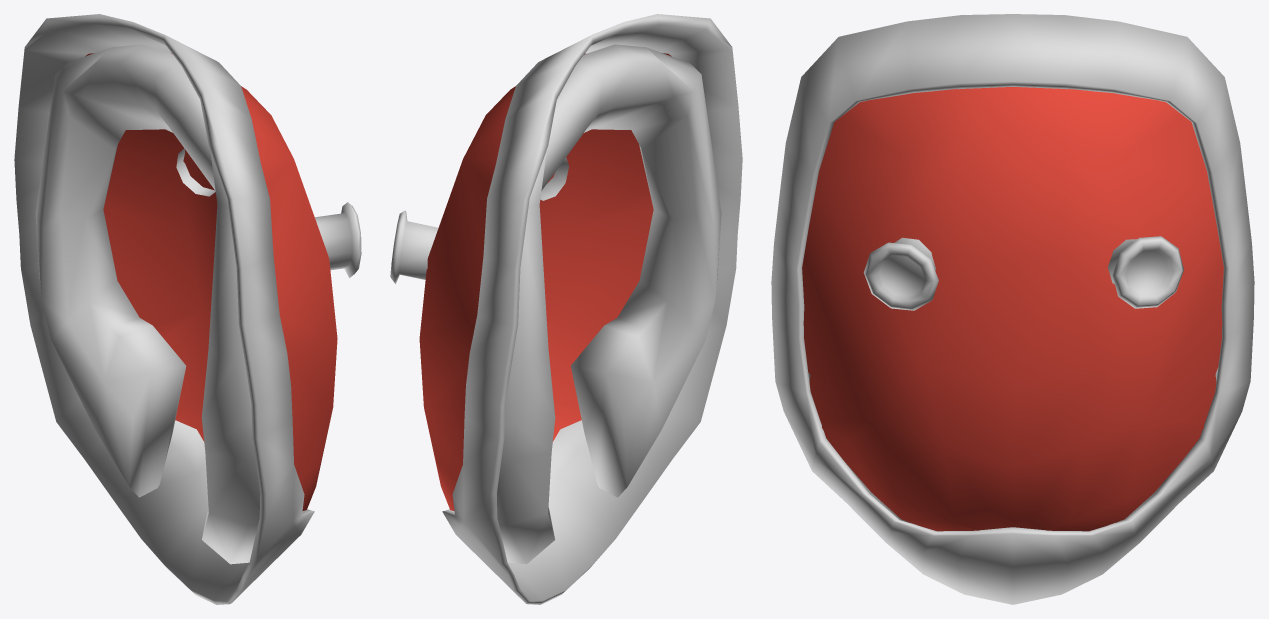
File: hazmat_eyes.glb
3 views of the same model, side by side, from view 1: azimuth 30°, elevation 25°; view 2: azimuth 150°, elevation 25°; view 3: azimuth 270°, elevation 25° (orthographic).
Parts seen in each view (by area): view 1: mask, mask.001; view 2: mask, mask.001; view 3: mask.001, mask.
Boxes of the visible parts, x1=… form: mask: x1=14, y1=14, x2=361, y2=604; mask.001: x1=85, y1=53, x2=337, y2=510; mask: x1=390, y1=14, x2=742, y2=604; mask.001: x1=419, y1=53, x2=671, y2=510; mask.001: x1=802, y1=87, x2=1223, y2=531; mask: x1=771, y1=14, x2=1254, y2=604.
Bounding box in the file's own units: 2.43 × 7.17 × 5.45.
